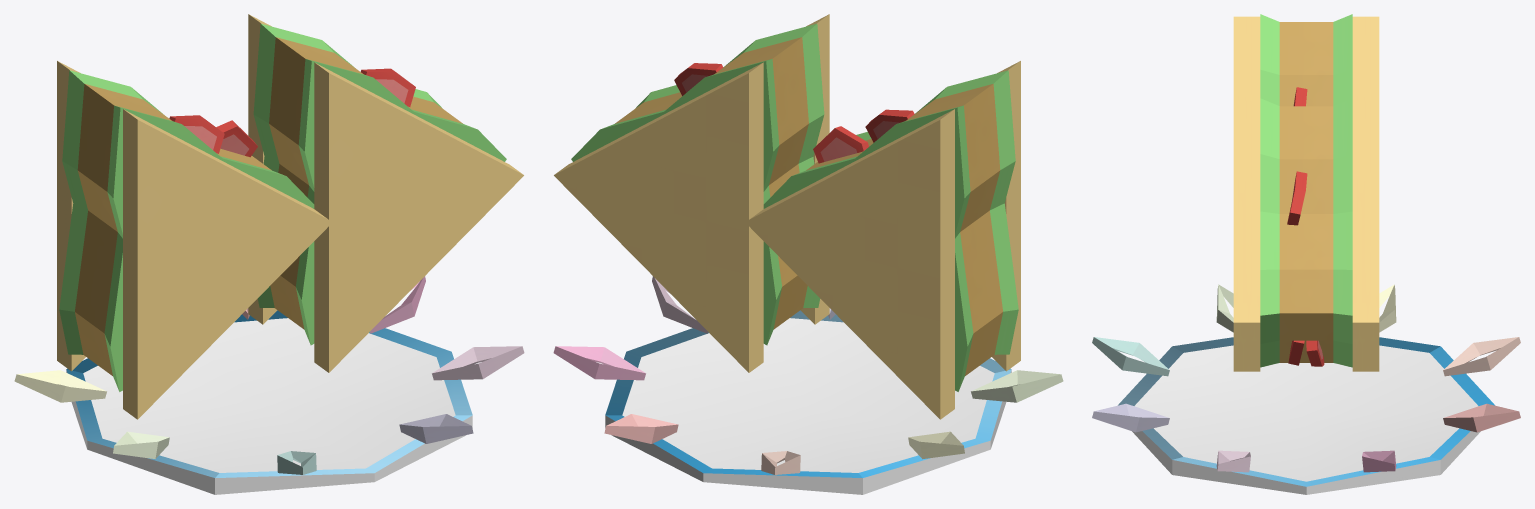
Rendered from SM_Button_NextLevel.fbx.
The picture shows the model from 3 angles, left to right: view 1: azimuth 30°, elevation 25°; view 2: azimuth 150°, elevation 25°; view 3: azimuth 270°, elevation 25°; orthographic projection. The views are drawn at different scales.
Visible parts, largest first — view 1: SM_Button_NextLevel; view 2: SM_Button_NextLevel; view 3: SM_Button_NextLevel.
Boxes of the visible parts, x1,y1,x2,y2 form: SM_Button_NextLevel: (14,14,524,494); SM_Button_NextLevel: (553,14,1063,494); SM_Button_NextLevel: (1092,14,1520,494).
Size of the model in its own units: 20.25 by 17.57 by 19.83.
